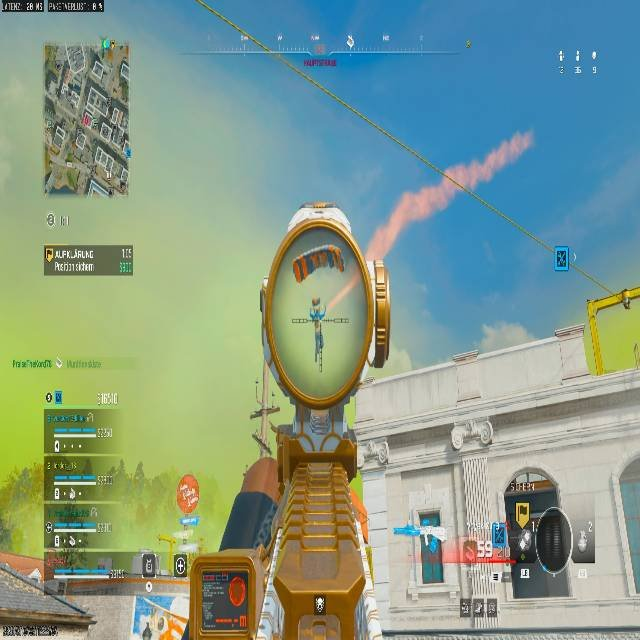head: (312, 295, 320, 306)
